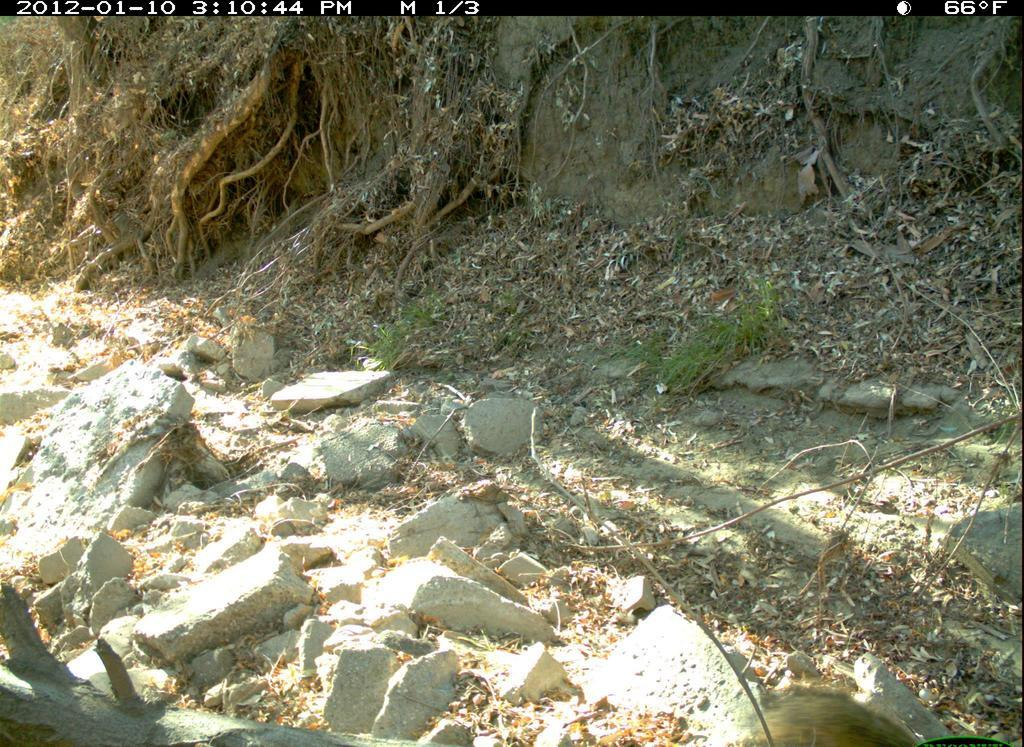squirrel: (694, 666, 946, 744)
